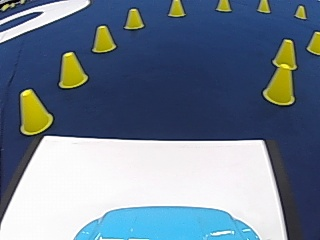cone: (262, 52, 296, 105), (18, 87, 52, 134), (57, 50, 87, 88), (273, 38, 297, 69), (91, 24, 116, 52), (123, 7, 144, 29), (306, 30, 319, 54), (168, 0, 185, 17), (216, 0, 231, 12), (294, 4, 306, 19), (257, 0, 270, 13)
